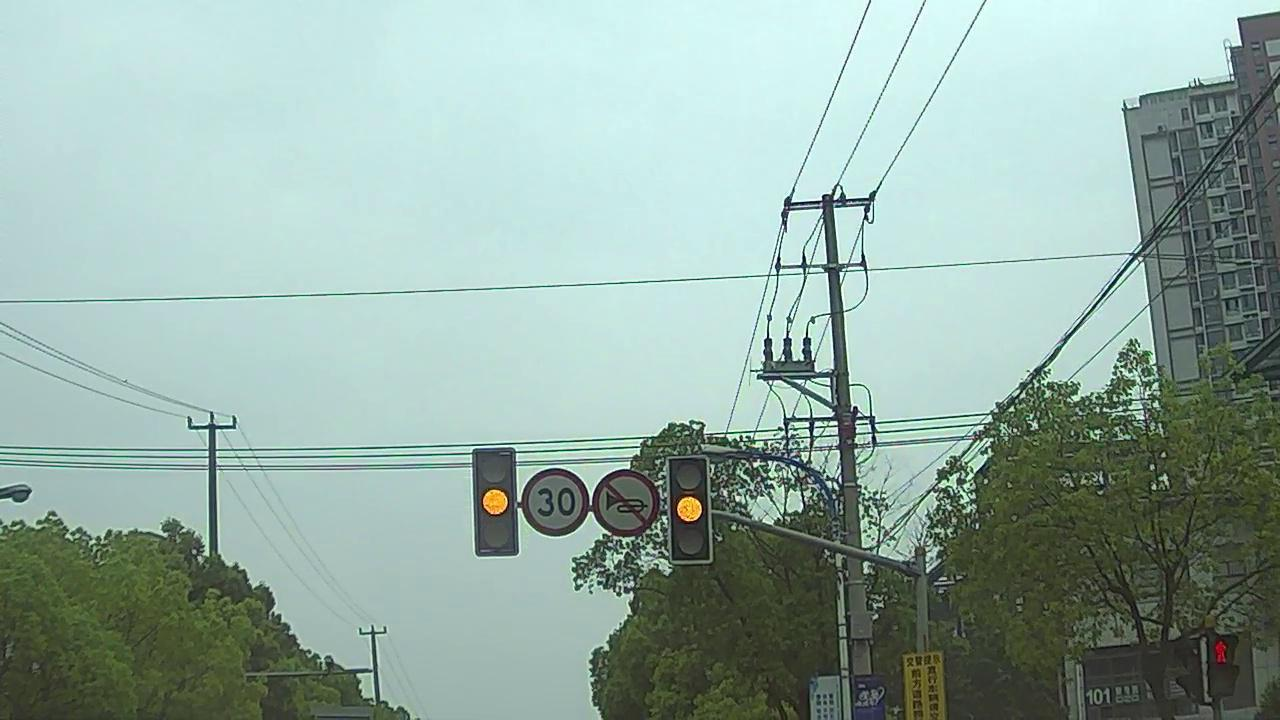traffic_light: (477, 449, 517, 556), (669, 458, 709, 563)
